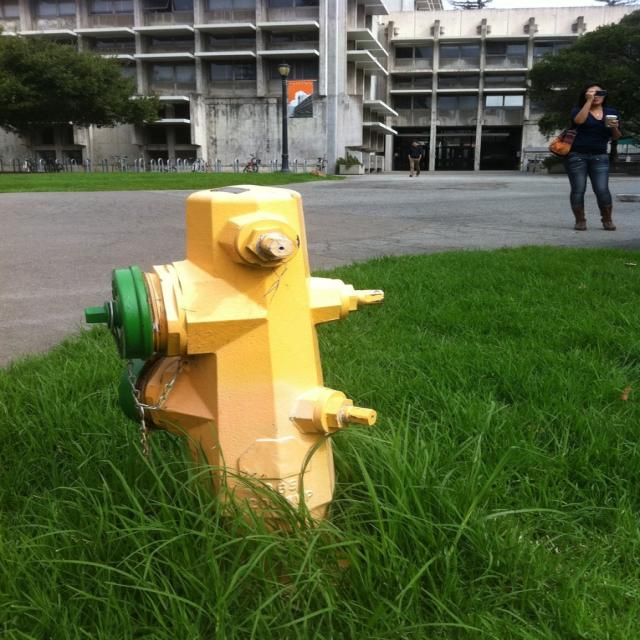fire_hydrant: (86, 183, 385, 524)
